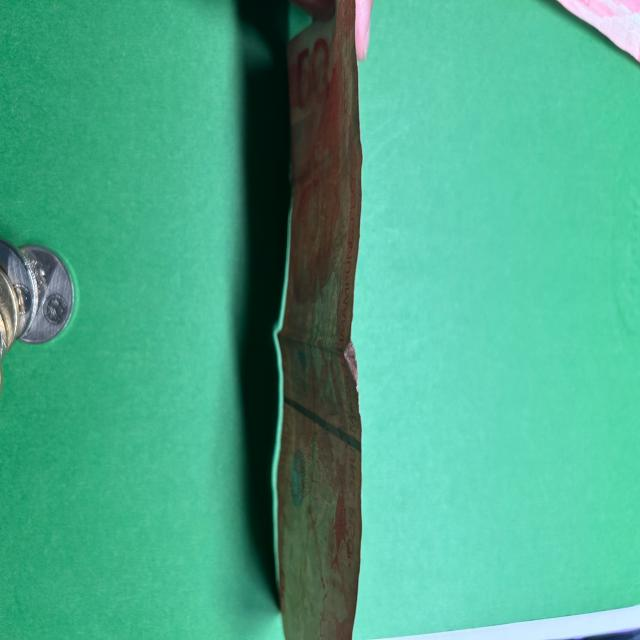security_thread: (280, 388, 363, 458)
value: (293, 34, 337, 121)
